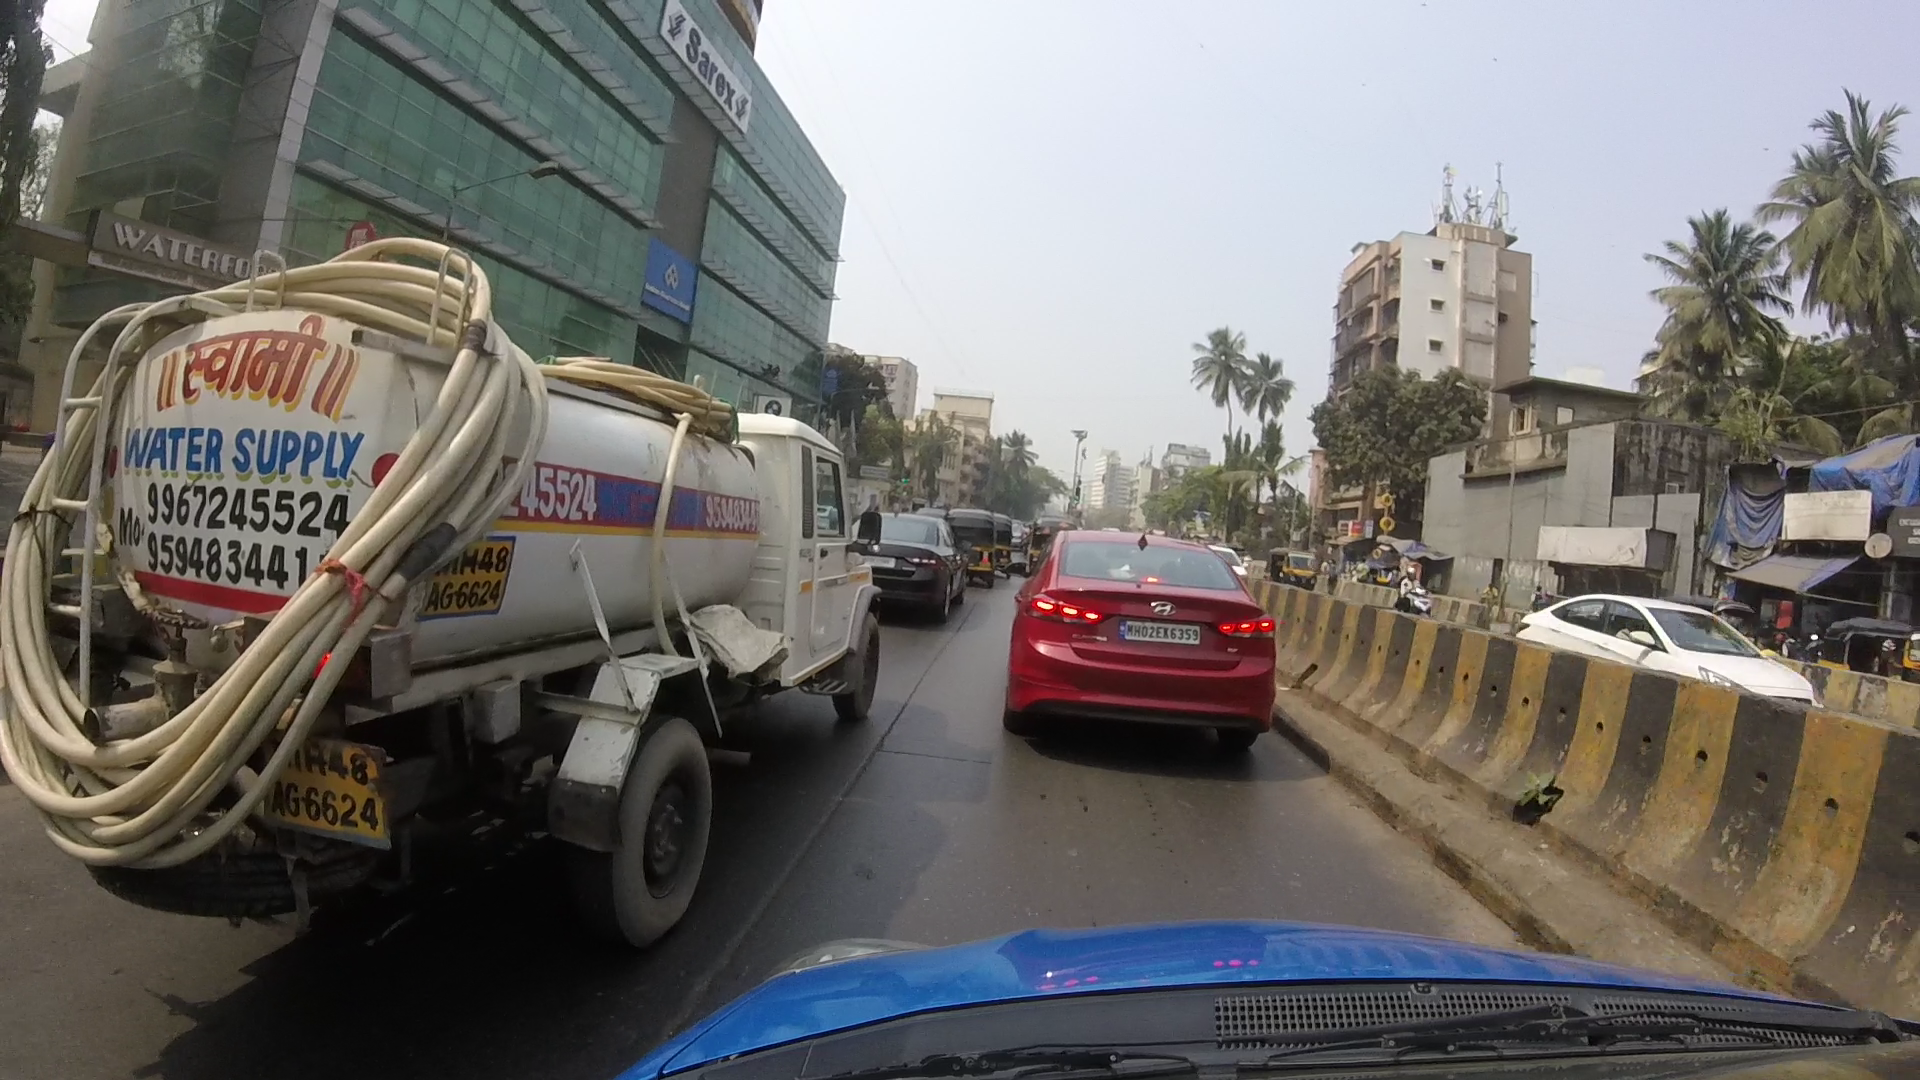bike/scooter: (1379, 556, 1447, 634)
car: (992, 510, 1324, 771), (1518, 582, 1821, 742), (853, 492, 976, 622)
rickshaw: (938, 493, 1007, 585), (1263, 526, 1325, 592)
truck: (21, 262, 901, 919)
